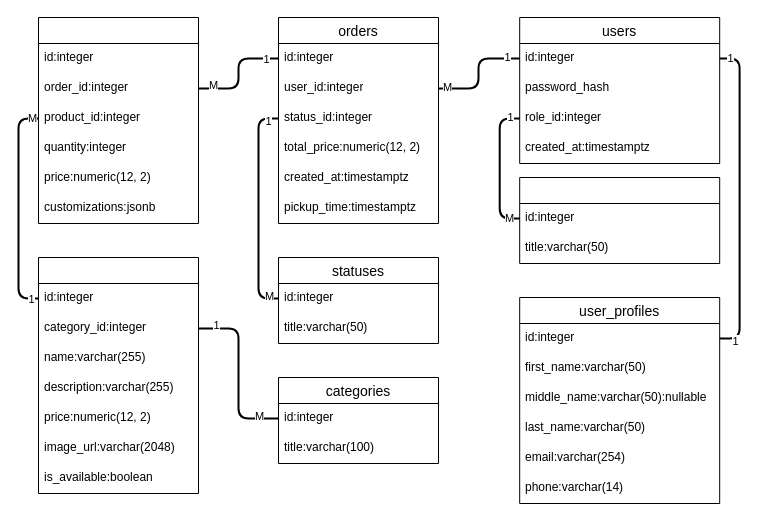
Some shapes in this 759 by 524 pixel diagram are drawn without their labels. The shapes that lost their labels are listed below. From the top down, each one's box as (x1, y1, x2, y2) in pixels, then its label:
(38, 16, 198, 224): order_items
(519, 176, 720, 264): roles
(38, 256, 198, 494): products
